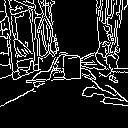cube: (59, 52, 84, 84)
